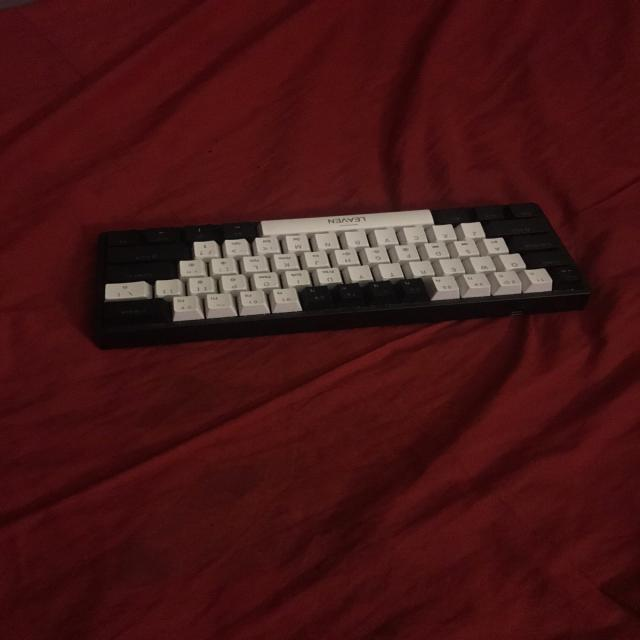-mouse-: (84, 200, 597, 326)
